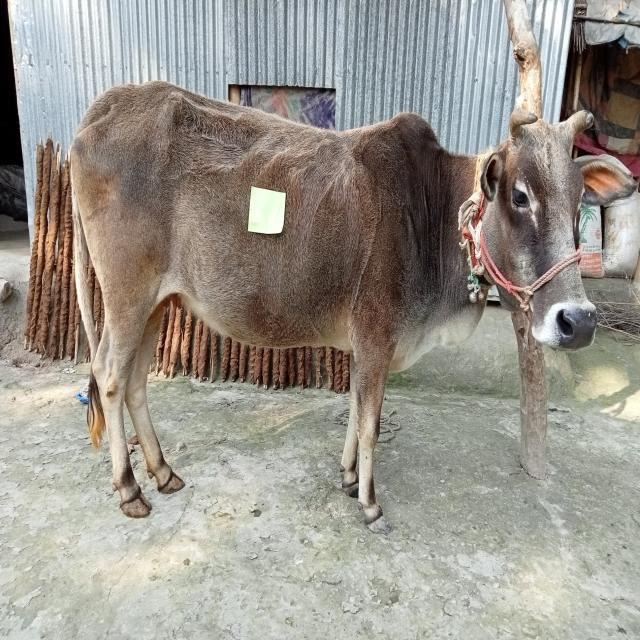badan_sapi: (76, 81, 402, 357)
sapi: (61, 70, 640, 547)
